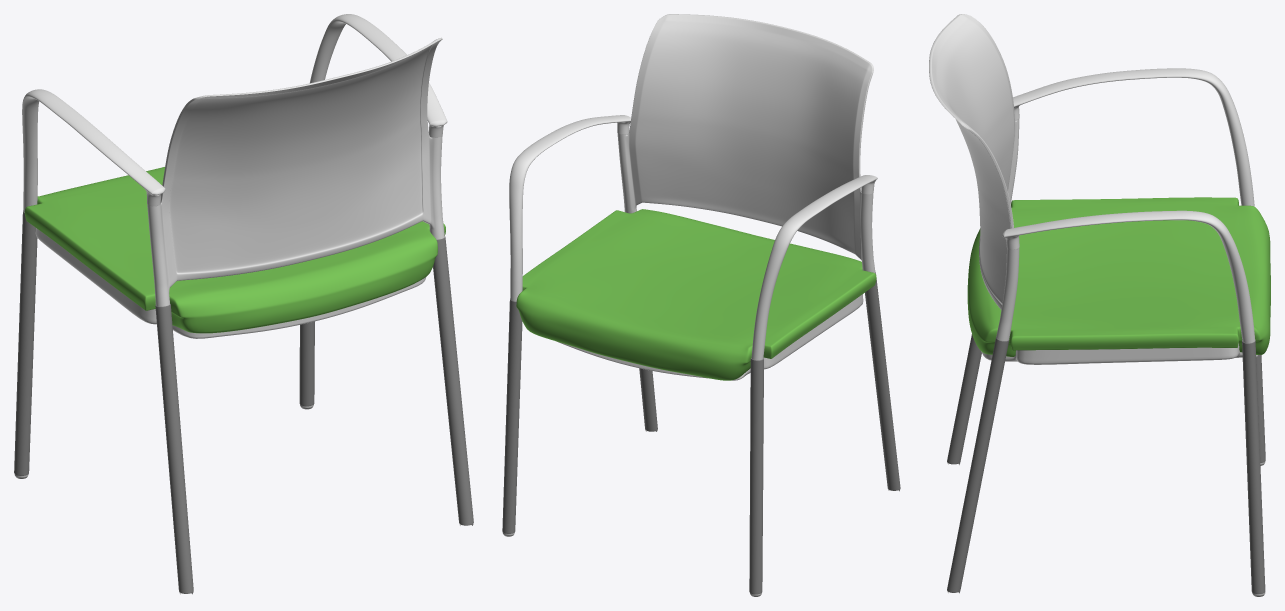
The model's file is chair2.gltf.
3 renders of one model, left to right at view 1: azimuth 30°, elevation 25°; view 2: azimuth 150°, elevation 25°; view 3: azimuth 270°, elevation 25°, orthographic. The views are drawn at different scales.
Parts seen in each view (by area): view 1: Back, Seat_cushion, Legs, Arms, Seat; view 2: Back, Seat_cushion, Legs, Arms, Seat; view 3: Seat_cushion, Back, Legs, Arms, Seat.
Boxes of the visible parts, bbox=[...] form: Back: bbox=[147, 37, 444, 306]; Seat_cushion: bbox=[24, 167, 445, 333]; Legs: bbox=[14, 210, 473, 593]; Arms: bbox=[22, 14, 447, 212]; Seat: bbox=[35, 228, 425, 338]; Back: bbox=[617, 14, 875, 272]; Seat_cushion: bbox=[516, 209, 876, 380]; Legs: bbox=[502, 272, 900, 594]; Arms: bbox=[509, 115, 877, 360]; Seat: bbox=[557, 294, 863, 380]; Seat_cushion: bbox=[967, 197, 1270, 356]; Back: bbox=[929, 14, 1019, 340]; Legs: bbox=[947, 334, 1265, 593]; Arms: bbox=[1002, 68, 1255, 343]; Seat: bbox=[981, 343, 1257, 364].
Bounding box in the file's own units: 1.13 × 1.62 × 1.08.
